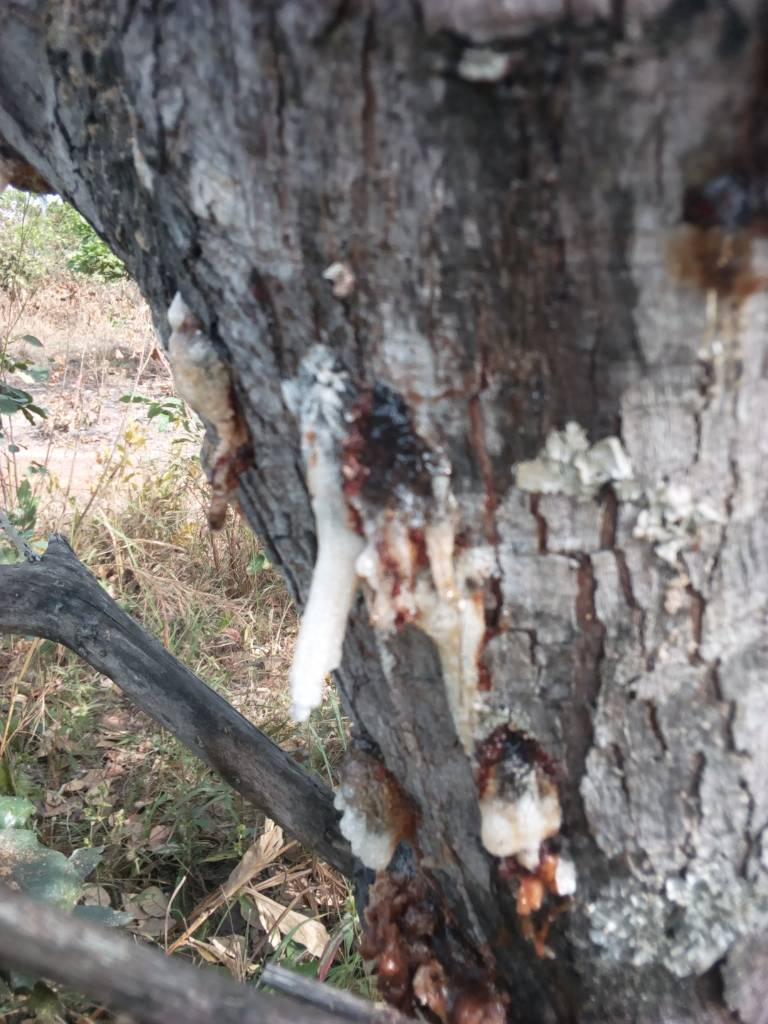Apate terebrans: (254, 366, 596, 844)
